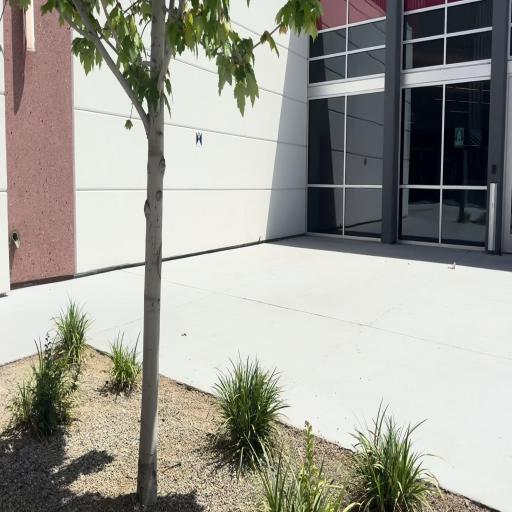target0: (196, 130, 202, 148)
